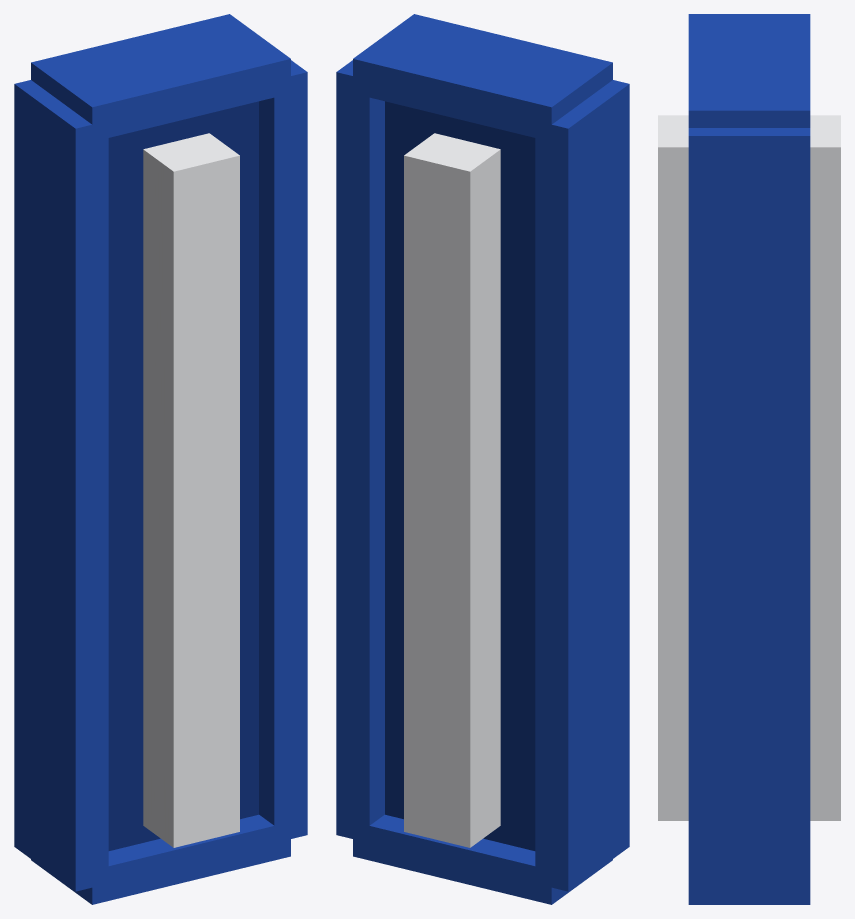
The model's file is floresan lamba.fbx.
The picture shows the model from 3 angles, left to right: view 1: azimuth 30°, elevation 25°; view 2: azimuth 150°, elevation 25°; view 3: azimuth 270°, elevation 25°; orthographic projection.
Visible parts, largest first — view 1: generated; view 2: generated; view 3: generated.
Boxes of the visible parts, x1,y1,x2,y2 form: generated: (14, 14, 307, 904); generated: (336, 14, 629, 904); generated: (658, 14, 840, 904).
Bounding box in the file's own units: 140 × 460 × 96.
